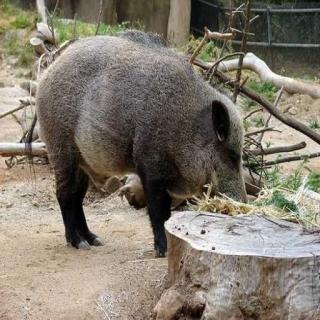Pig: (12, 17, 284, 269)
